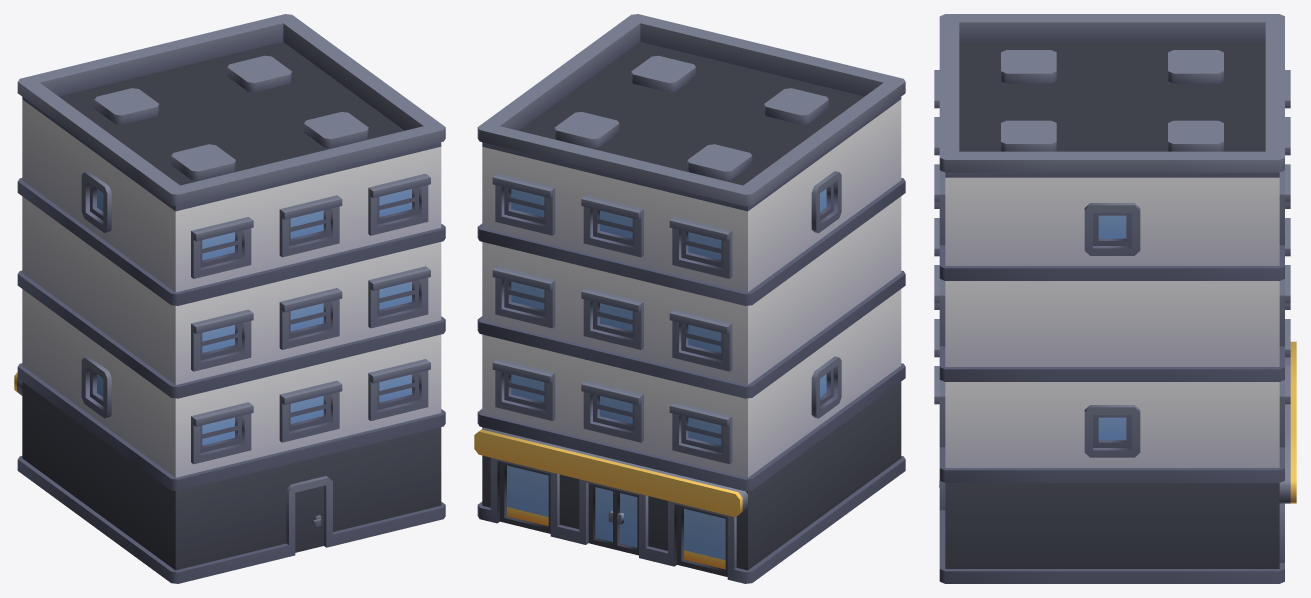
Rendered from k_c_building-i.glb.
3 renders of one model, left to right at view 1: azimuth 30°, elevation 25°; view 2: azimuth 150°, elevation 25°; view 3: azimuth 270°, elevation 25°, orthographic. The views are drawn at different scales.
Visible parts, largest first — view 1: building-i; view 2: building-i; view 3: building-i.
Part boxes in pixels (x1,y1,x2,y2): building-i: (14, 14, 445, 583); building-i: (474, 14, 905, 583); building-i: (934, 14, 1296, 583).
Bounding box in the file's own units: 1.24 × 1.68 × 1.3.
Materials: 1 (1 with a texture image).
